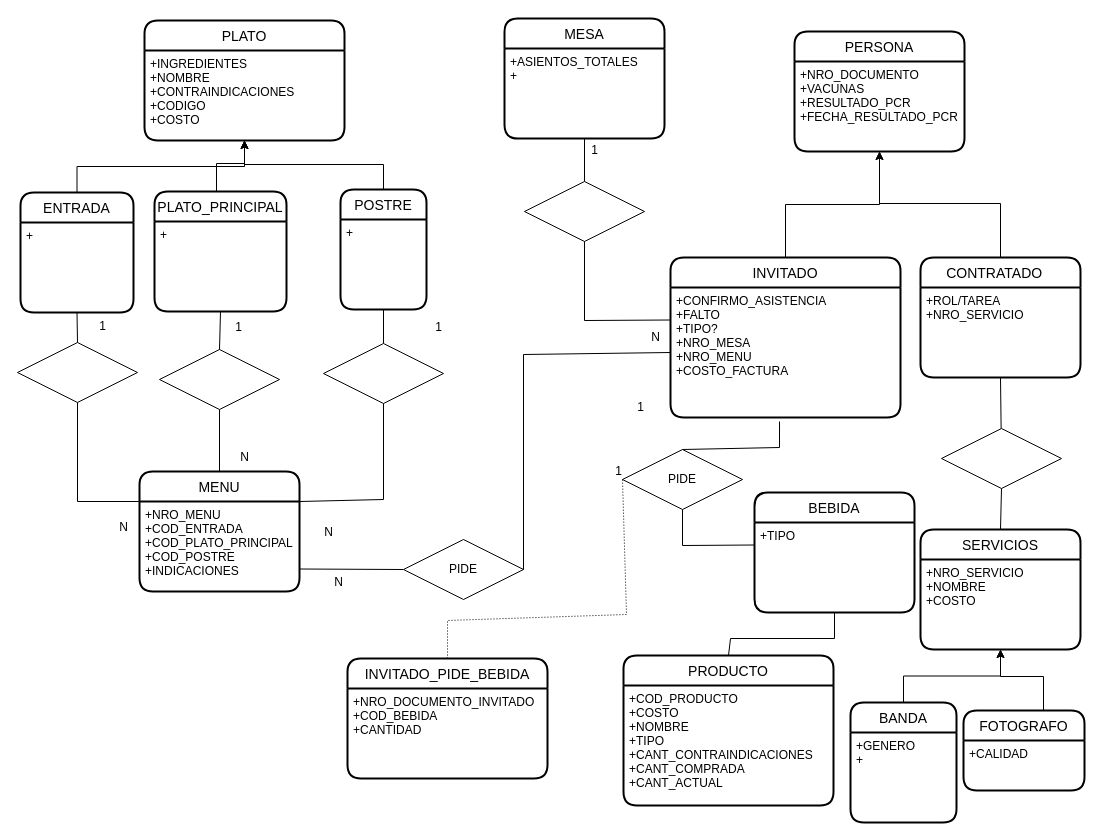
This 1103x840 diagram has some shape labels left out. The centre of each missing label's shape, as x and y in pixels:
ES ENTRADA: point 77,372
ES PLATO PRINCIPAL: point 219,379
ES POSTRE: point 383,373
OFRECE: point 1001,458
SE SIENTA: point 584,211
